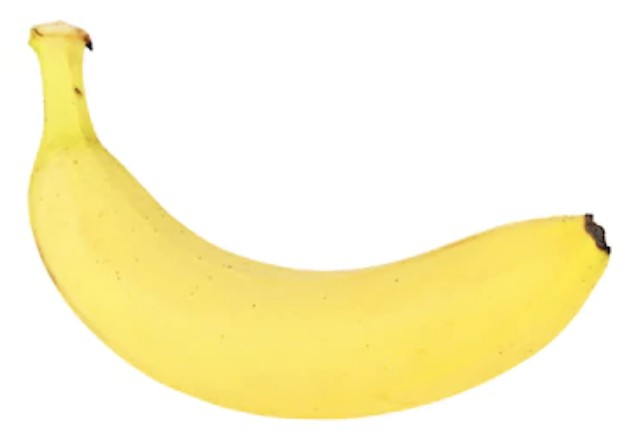fresh_banana: (29, 20, 612, 419)
